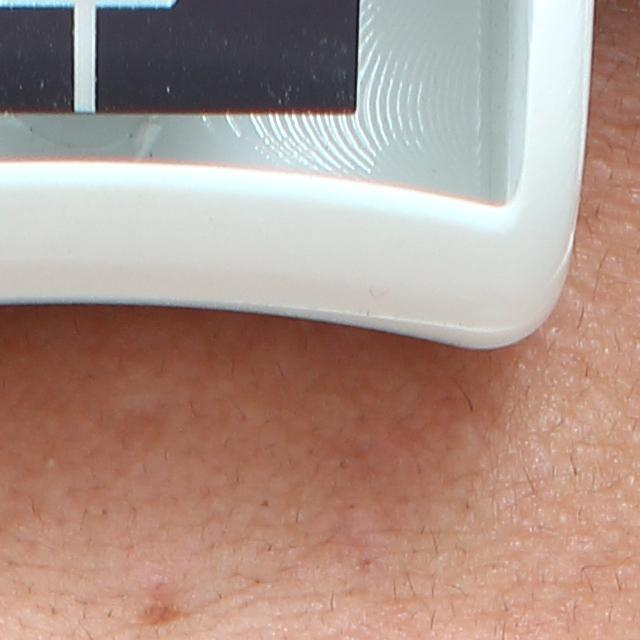atrophic_scar: (134, 567, 188, 633)
comedo: (254, 493, 277, 514), (44, 452, 62, 472)
